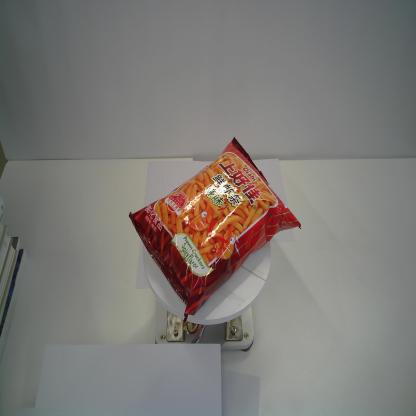Puffed Food: (128, 134, 302, 327)
